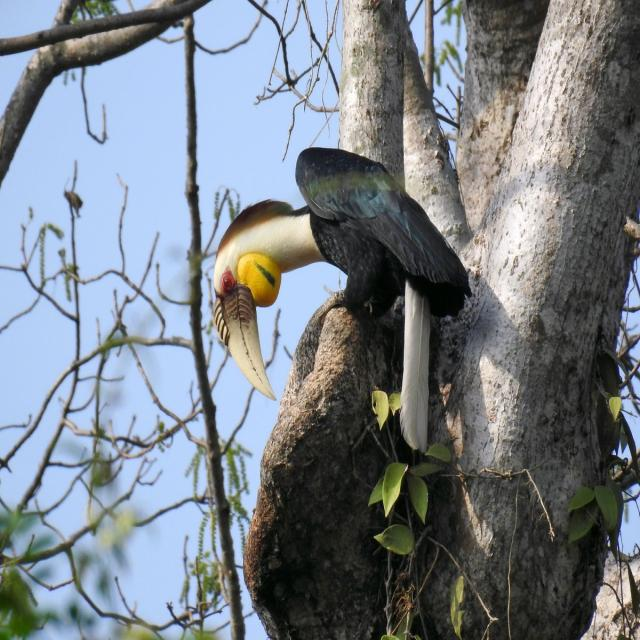Hornbill: (211, 132, 479, 463)
